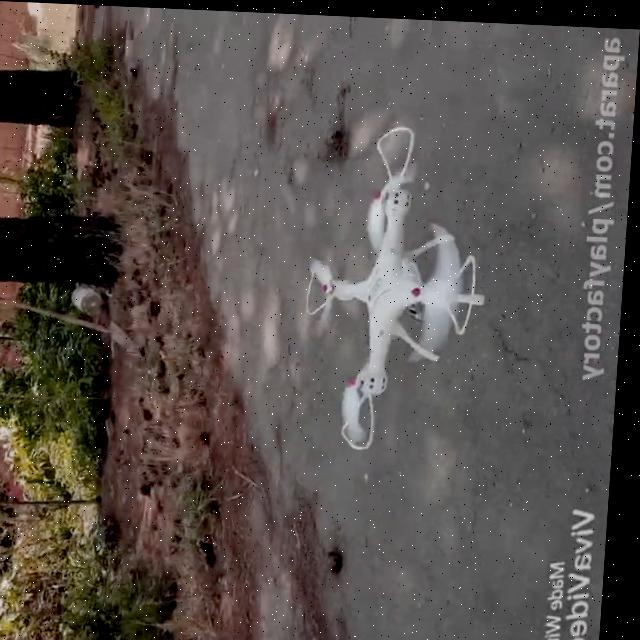drone: (300, 115, 500, 454)
